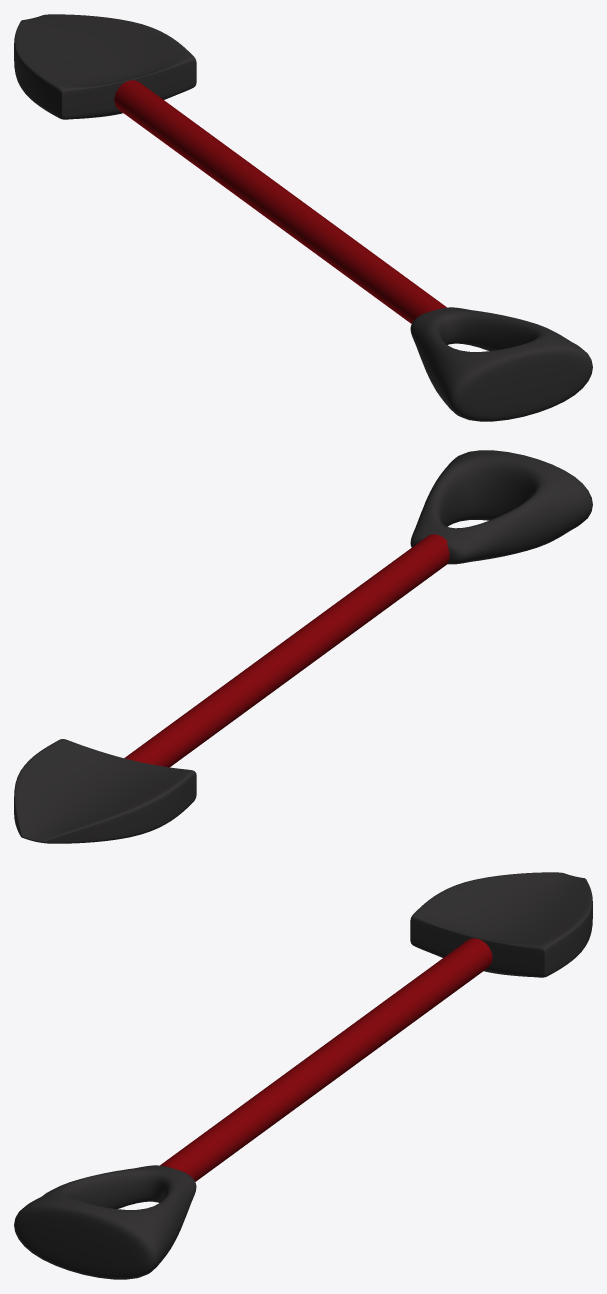
3 renders of one model, top to bottom at view 1: azimuth 30°, elevation 25°; view 2: azimuth 150°, elevation 25°; view 3: azimuth 330°, elevation 25°, orthographic.
Visible parts, largest first — view 1: Cube.011, Cube.012, Cylinder.007; view 2: Cube.012, Cube.011, Cylinder.007; view 3: Cube.011, Cube.012, Cylinder.007.
Part boxes in pixels (x1,y1,x2,y2): Cube.011: [410, 307, 592, 421]; Cube.012: [14, 14, 196, 119]; Cylinder.007: [114, 80, 446, 323]; Cube.012: [14, 739, 196, 843]; Cube.011: [410, 450, 592, 564]; Cylinder.007: [124, 534, 449, 767]; Cube.011: [14, 1165, 196, 1279]; Cube.012: [410, 872, 592, 977]; Cylinder.007: [160, 938, 492, 1181].
Bounding box in the file's own units: 36.75 × 16.34 × 221.
